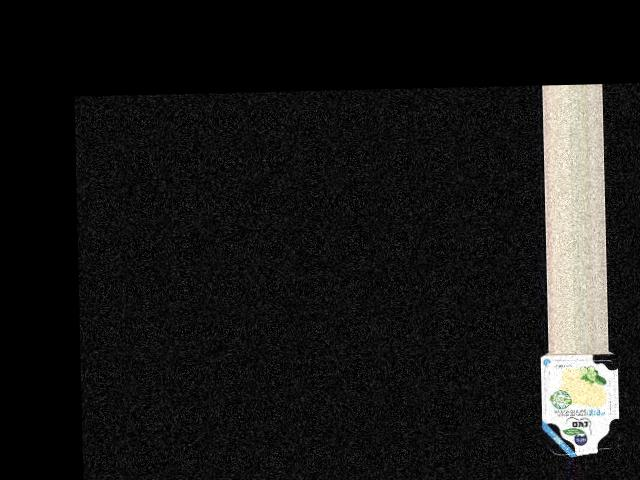cheese: (535, 350, 624, 456)
